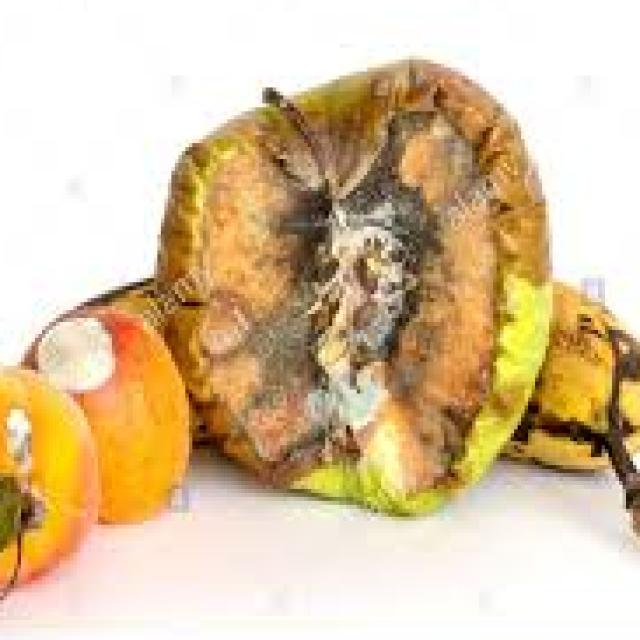inorganic: (155, 35, 608, 571), (3, 306, 211, 627)
